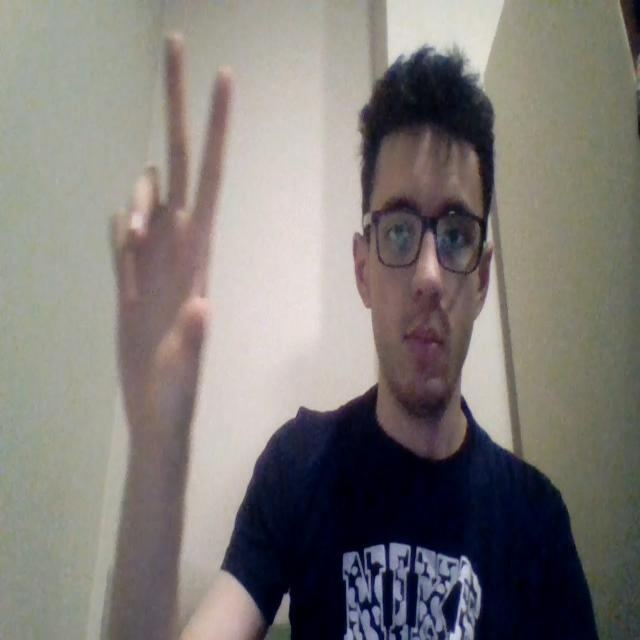no: (108, 29, 234, 441)
